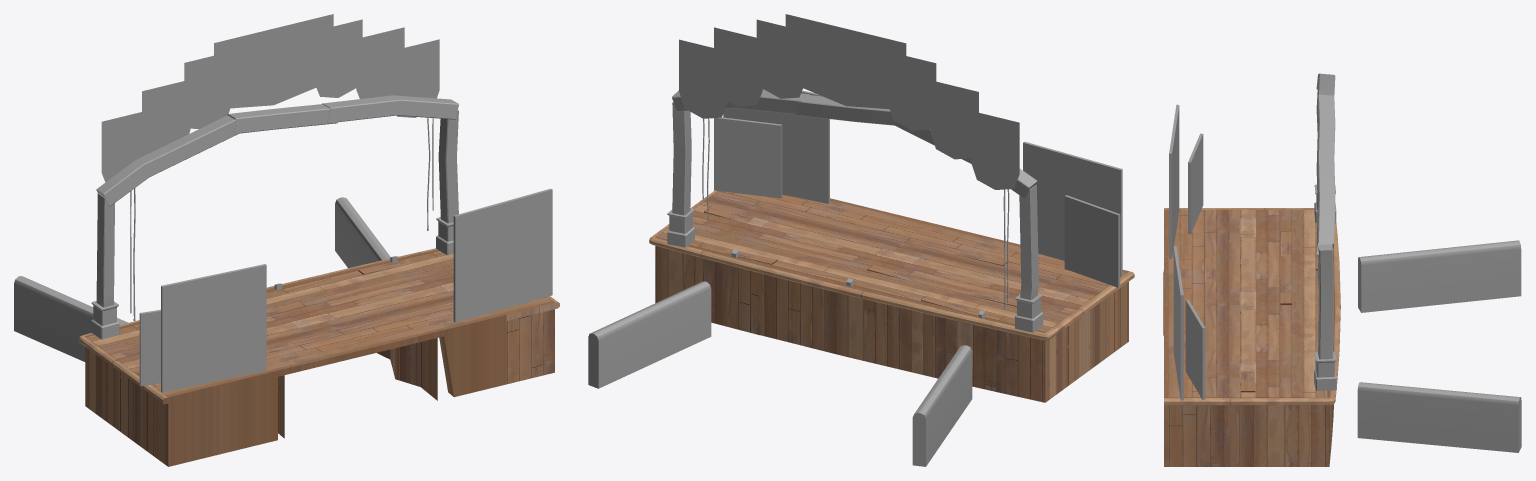
The model's file is SM_Stage.fbx.
The picture shows the model from 3 angles, left to right: view 1: azimuth 30°, elevation 25°; view 2: azimuth 150°, elevation 25°; view 3: azimuth 270°, elevation 25°; orthographic projection.
Visible parts, largest first — view 1: SM_Broken_Main, SM_Decors03, SM_Decors02, SM_Rideau04, SM_Broken_URR, SM_Broken_UL, SM_Broken_UR, SM_Sides, SM_Broken_ULL, SM_Broken_DRR, SM_Pillar3, SM_Rideau02 (+12 smaller); view 2: SM_Broken_Main, SM_Rideau04, SM_Sides1, SM_Broken_DRR, SM_Broken_DL, SM_Decors03, SM_Broken_DR, SM_Broken_URR, SM_Decors04, SM_Decors02, SM_Decors05, SM_Sides (+17 smaller); view 3: SM_Broken_Main, SM_Sides1, SM_Sides, SM_Broken_DLL, SM_Broken_ULL, SM_Broken_DL, SM_Broken_DR, SM_Pillar, SM_Broken_URR, SM_Broken_UR, SM_Pillar2, SM_Decors04 (+8 smaller).
Part boxes in pixels (x1,y1,x2,y2): SM_Broken_Main: [266, 265, 443, 438]; SM_Decors03: [161, 264, 266, 392]; SM_Decors02: [453, 188, 552, 322]; SM_Rideau04: [214, 14, 333, 108]; SM_Broken_URR: [113, 353, 216, 466]; SM_Broken_UL: [401, 290, 506, 397]; SM_Broken_UR: [211, 361, 277, 455]; SM_Sides: [14, 276, 128, 361]; SM_Broken_ULL: [499, 296, 559, 384]; SM_Broken_DRR: [78, 322, 139, 429]; SM_Pillar3: [96, 115, 241, 206]; SM_Rideau02: [356, 27, 404, 98]; SM_Broken_Main: [757, 203, 1017, 377]; SM_Rideau04: [785, 14, 906, 109]; SM_Sides1: [588, 281, 711, 388]; SM_Broken_DRR: [992, 302, 1084, 402]; SM_Broken_DL: [700, 218, 827, 335]; SM_Decors03: [1023, 141, 1122, 276]; SM_Broken_DR: [933, 275, 1049, 391]; SM_Broken_URR: [1041, 270, 1134, 377]; SM_Decors04: [714, 117, 782, 198]; SM_Decors02: [723, 89, 829, 203]; SM_Decors05: [1064, 195, 1120, 287]; SM_Sides: [912, 345, 972, 466]; SM_Broken_Main: [1163, 260, 1340, 409]; SM_Sides1: [1357, 382, 1521, 452]; SM_Sides: [1358, 240, 1521, 312]; SM_Broken_DLL: [1230, 374, 1337, 466]; SM_Broken_ULL: [1164, 372, 1240, 466]; SM_Broken_DL: [1230, 339, 1339, 441]; SM_Broken_DR: [1225, 227, 1339, 266]; SM_Pillar: [1314, 244, 1336, 390]; SM_Broken_URR: [1164, 208, 1270, 233]; SM_Broken_UR: [1164, 231, 1241, 264]; SM_Pillar2: [1316, 153, 1335, 254]; SM_Decors04: [1185, 299, 1205, 399].
Size of the model in its own units: 3020 by 2348 by 2341.
